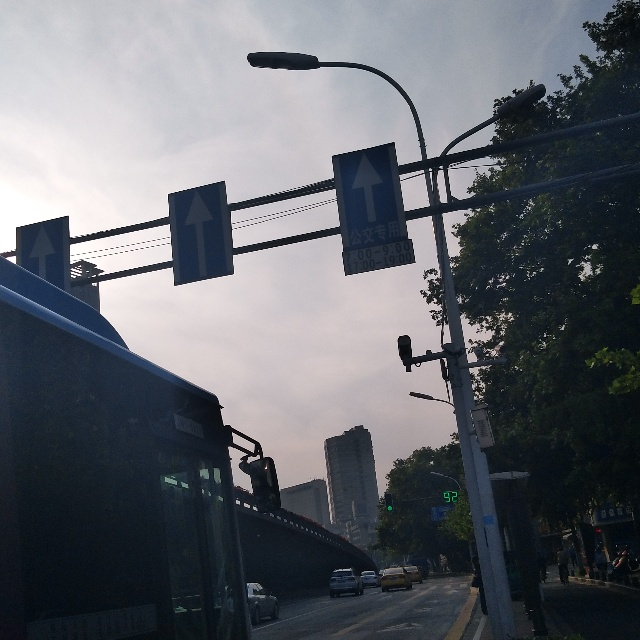straight: (13, 222, 76, 287), (338, 151, 391, 224), (181, 191, 223, 275)
